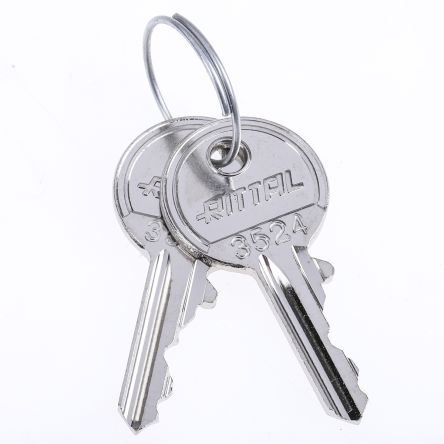key: (173, 117, 359, 419), (109, 115, 225, 427)
